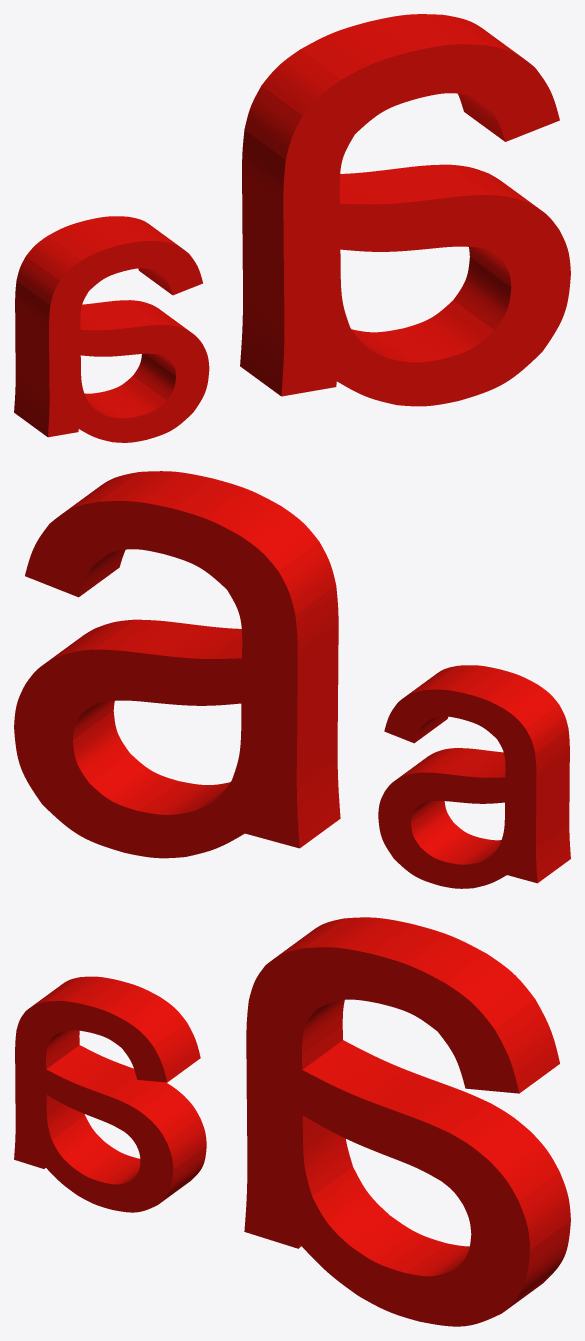
The picture shows the model from 3 angles, top to bottom: view 1: azimuth 30°, elevation 25°; view 2: azimuth 150°, elevation 25°; view 3: azimuth 330°, elevation 25°; orthographic projection.
Visible parts, largest first — view 1: Uploads Files 1950256 A.001, Uploads Files 1950256 A; view 2: Uploads Files 1950256 A.001, Uploads Files 1950256 A; view 3: Uploads Files 1950256 A.001, Uploads Files 1950256 A.
Part boxes in pixels (box(x1,y1,x2,y2)): Uploads Files 1950256 A.001: box(240, 14, 570, 406); Uploads Files 1950256 A: box(14, 216, 209, 442); Uploads Files 1950256 A.001: box(14, 471, 340, 858); Uploads Files 1950256 A: box(378, 665, 570, 888); Uploads Files 1950256 A.001: box(244, 917, 570, 1326); Uploads Files 1950256 A: box(14, 976, 206, 1212).
Size of the model in its own units: 44.59 by 29.39 by 6.11.
